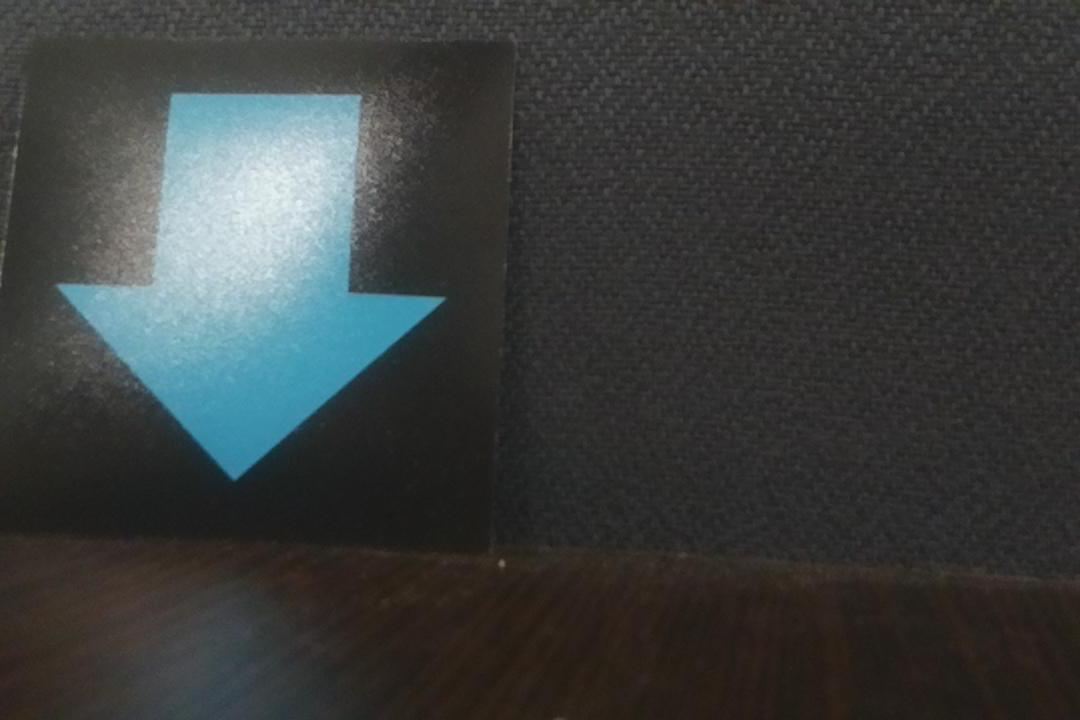down_arrow: (1, 34, 520, 553)
